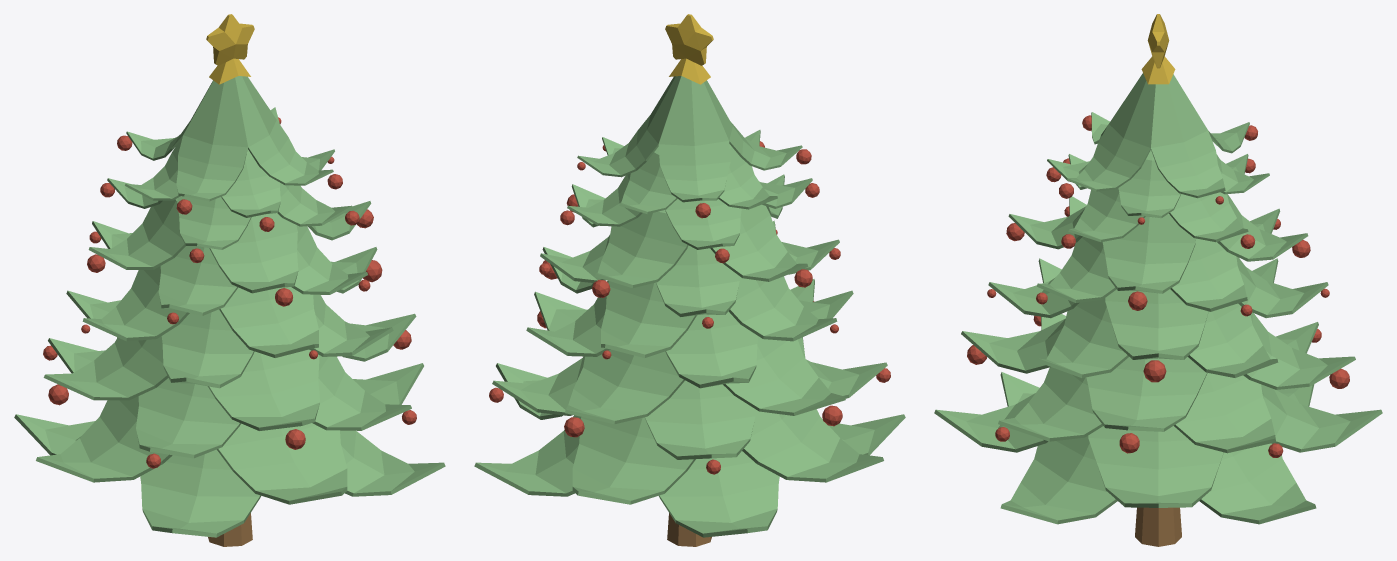
File: ChristmasTree.glb
3 views of the same model, side by side, from view 1: azimuth 30°, elevation 25°; view 2: azimuth 150°, elevation 25°; view 3: azimuth 270°, elevation 25° (orthographic).
Parts seen in each view (by area): view 1: Cylinder; view 2: Cylinder; view 3: Cylinder.
Boxes of the visible parts, x1,y1,x2,y2 form: Cylinder: (14, 14, 445, 546); Cylinder: (474, 14, 905, 546); Cylinder: (934, 14, 1382, 546).
Size of the model in its own units: 4.51 by 5.8 by 4.51.
